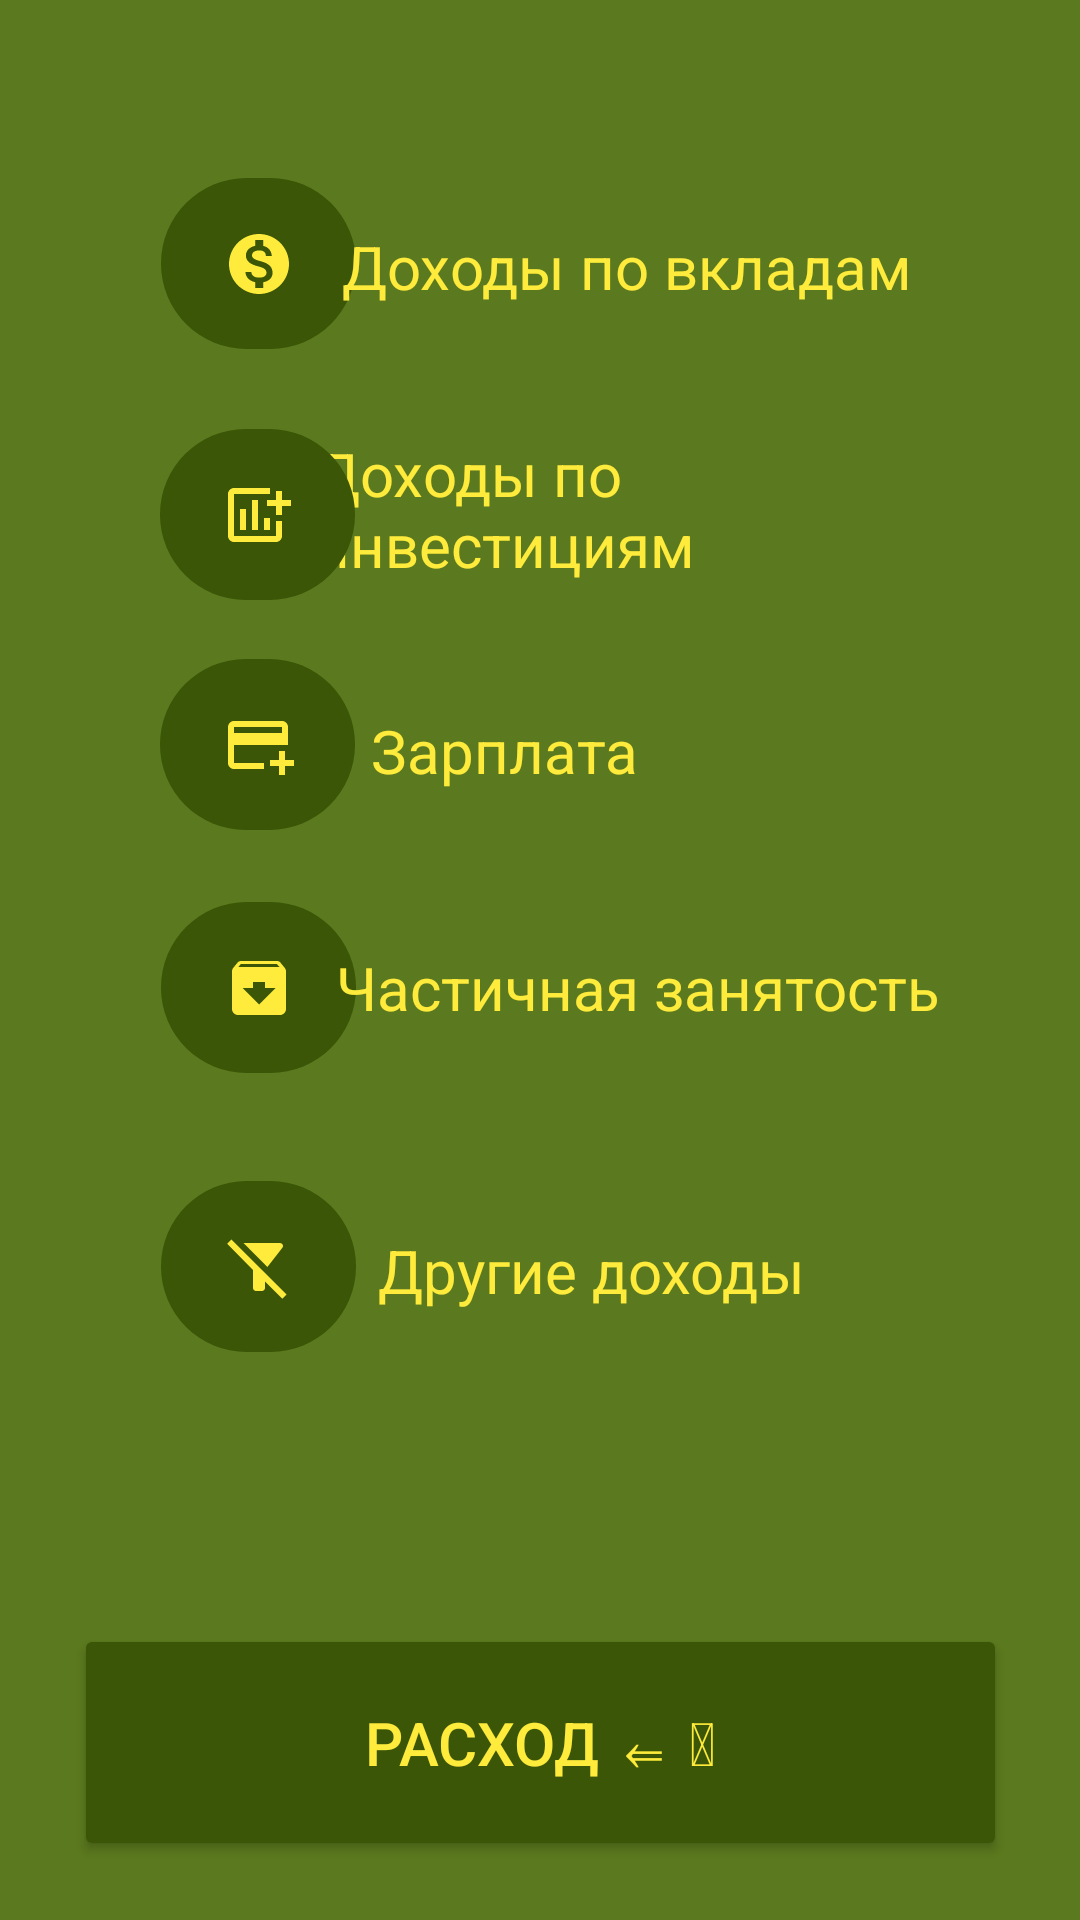

Screen size 1080×1920. Icon name, then its box in pixels as (x1, y1, x2, y2):
add card: (160, 659, 355, 830)
add chart: (160, 429, 355, 600)
archive: (161, 902, 356, 1073)
filter off: (161, 1181, 356, 1352)
monetization on: (161, 178, 356, 349)
